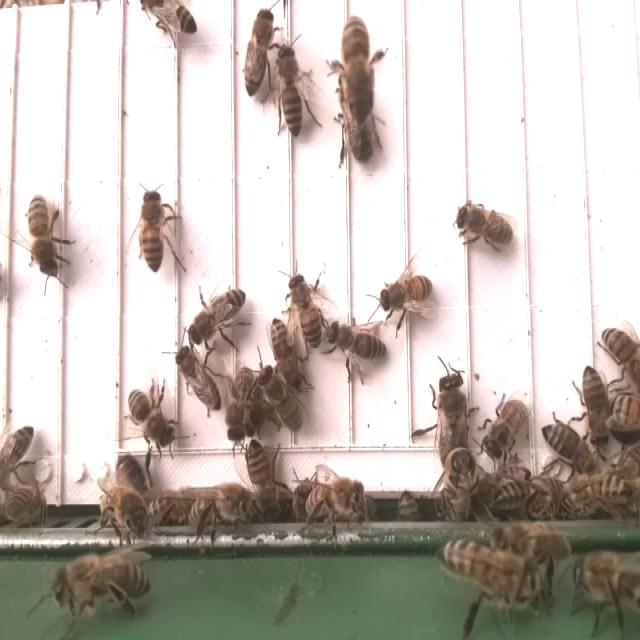Drone: (431, 369, 475, 464)
Worker: (270, 41, 322, 136), (475, 392, 536, 467), (371, 266, 441, 329), (184, 478, 253, 537), (187, 284, 250, 348), (253, 363, 309, 435), (454, 196, 518, 254), (124, 384, 179, 450), (25, 189, 63, 282), (340, 15, 377, 110), (174, 347, 222, 418), (267, 316, 312, 391), (566, 467, 634, 516), (239, 5, 275, 97), (134, 183, 170, 275), (538, 419, 595, 475), (578, 361, 613, 452), (326, 317, 386, 370), (287, 270, 326, 349), (242, 434, 279, 511), (225, 360, 258, 446), (490, 469, 549, 514), (302, 483, 364, 521)
